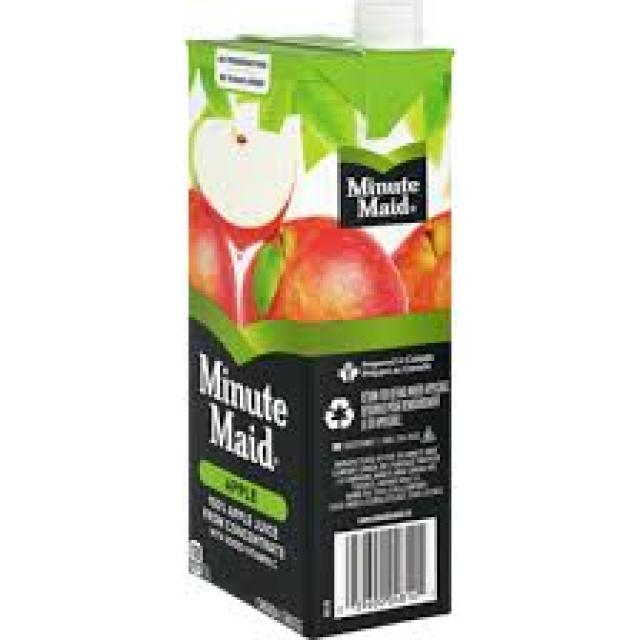non_white_jug: (173, 3, 464, 640)
